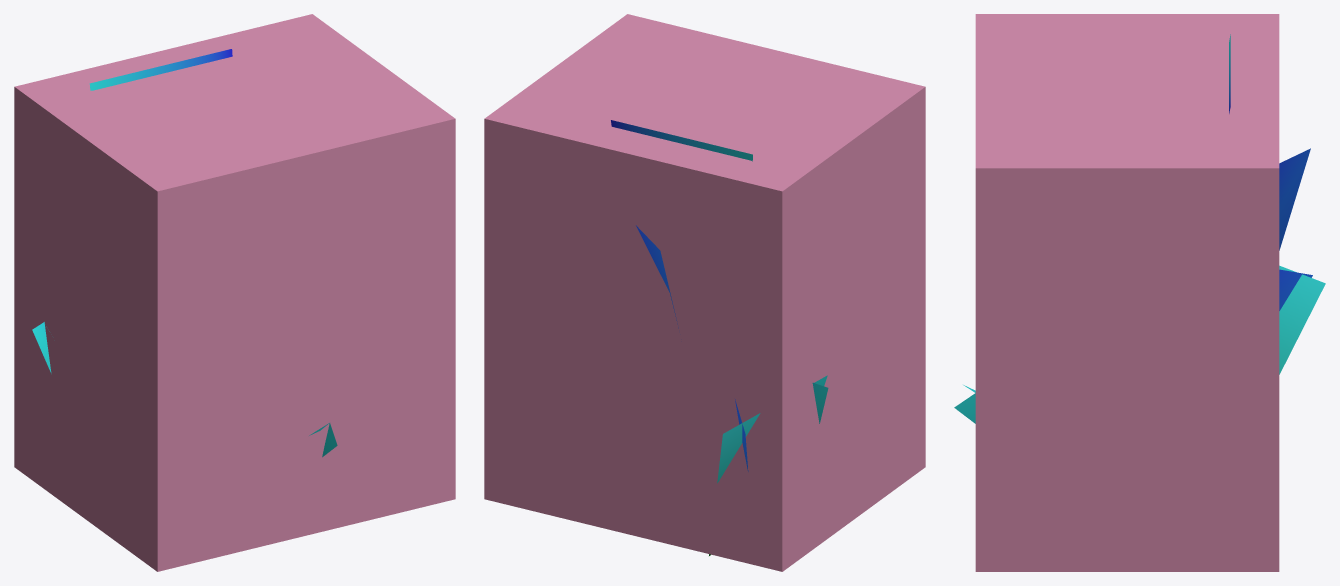
Rendered from lush_grass_01_c.dae.
The picture shows the model from 3 angles, left to right: view 1: azimuth 30°, elevation 25°; view 2: azimuth 150°, elevation 25°; view 3: azimuth 270°, elevation 25°; orthographic projection. The views are drawn at different scales.
Visible parts, largest first — view 1: Untitled, tree_oak_bush_a80; view 2: Untitled, tree_oak_bush_a80; view 3: Untitled, tree_oak_bush_a80.
Boxes of the visible parts, box(x1,y1,x2,y2) form: Untitled: box(14, 14, 455, 571); tree_oak_bush_a80: box(32, 49, 337, 457); Untitled: box(484, 14, 925, 571); tree_oak_bush_a80: box(611, 120, 828, 555); Untitled: box(975, 14, 1279, 571); tree_oak_bush_a80: box(954, 34, 1325, 423).
Size of the model in its own units: 1.29 by 1.26 by 1.73.
